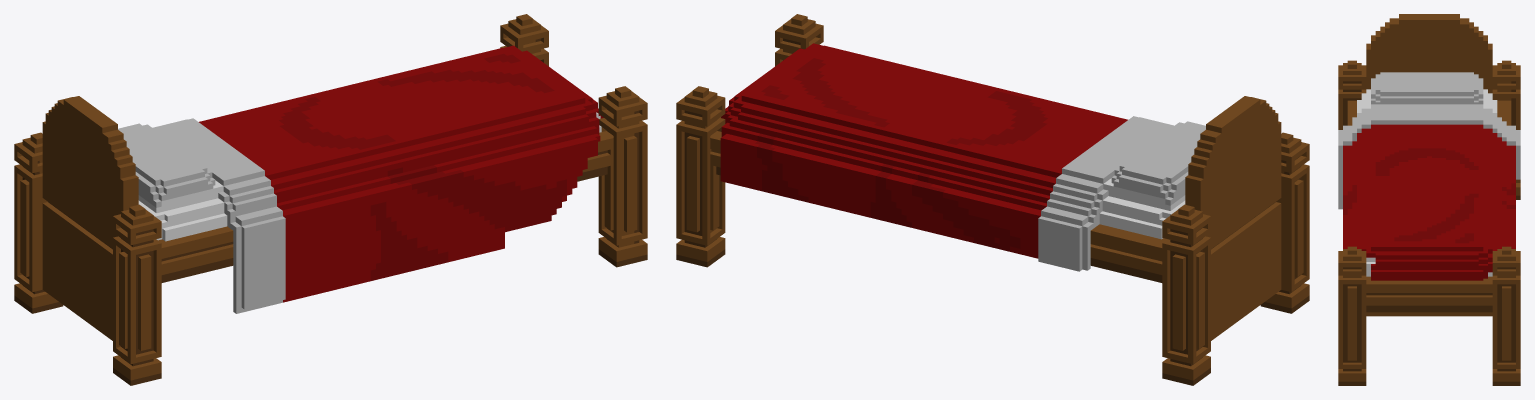
Rendered from cama.obj.
The picture shows the model from 3 angles, left to right: view 1: azimuth 30°, elevation 25°; view 2: azimuth 150°, elevation 25°; view 3: azimuth 270°, elevation 25°; orthographic projection. The views are drawn at different scales.
Visible parts, largest first — view 1: cama; view 2: cama; view 3: cama.
Part boxes in pixels (<box>): cama: <box>14,14,647,385</box>; cama: <box>676,14,1309,385</box>; cama: <box>1338,14,1520,385</box>.
Size of the model in its own units: 100 by 42 by 39.
1 material, 1 textured.
